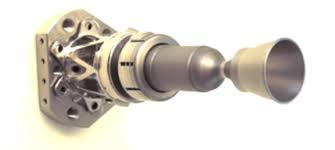thruster: (219, 36, 306, 105)
